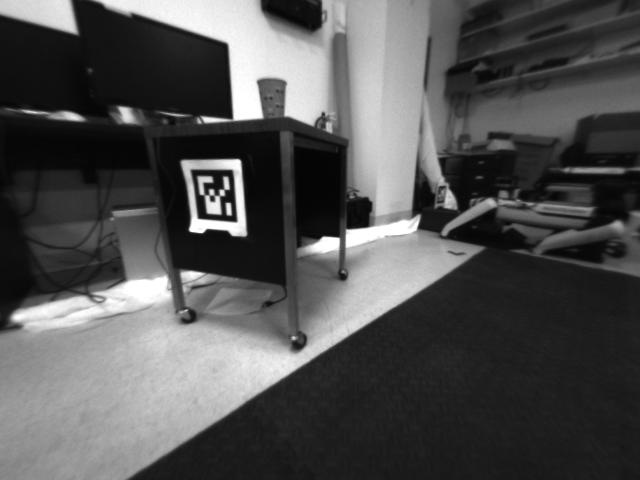coffee_cup: (253, 77, 291, 119)
